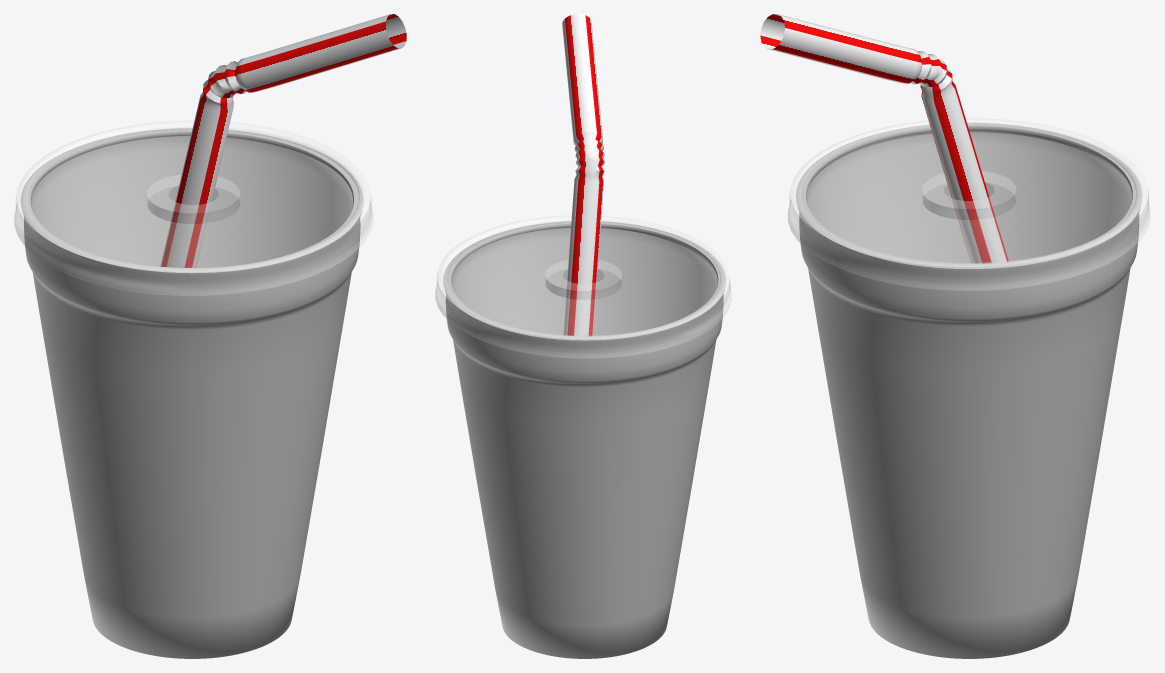
File: TrashCup.glb
3 renders of one model, left to right at view 1: azimuth 30°, elevation 25°; view 2: azimuth 150°, elevation 25°; view 3: azimuth 270°, elevation 25°, orthographic. The views are drawn at different scales.
Parts seen in each view (by area): view 1: node_cupMesh1_-47598_5, node_lidMesh2_-47600_4, node_straw2_-47604_6; view 2: node_cupMesh1_-47598_5, node_lidMesh2_-47600_4, node_straw2_-47604_6; view 3: node_cupMesh1_-47598_5, node_lidMesh2_-47600_4, node_straw2_-47604_6, node_strawRevFace1_-108274_7.
Part boxes in pixels (left/top/right/bottom): node_cupMesh1_-47598_5: left=20, top=128, right=363, bottom=658; node_lidMesh2_-47600_4: left=14, top=121, right=372, bottom=295; node_straw2_-47604_6: left=160, top=14, right=400, bottom=267; node_cupMesh1_-47598_5: left=443, top=221, right=726, bottom=658; node_lidMesh2_-47600_4: left=435, top=215, right=731, bottom=358; node_straw2_-47604_6: left=562, top=14, right=604, bottom=336; node_cupMesh1_-47598_5: left=796, top=122, right=1142, bottom=658; node_lidMesh2_-47600_4: left=788, top=118, right=1150, bottom=290; node_straw2_-47604_6: left=769, top=14, right=1008, bottom=263; node_strawRevFace1_-108274_7: left=760, top=14, right=784, bottom=49.
Bounding box in the file's own units: 0.3158 × 0.6269 × 0.3398.
3 materials, 1 textured.
